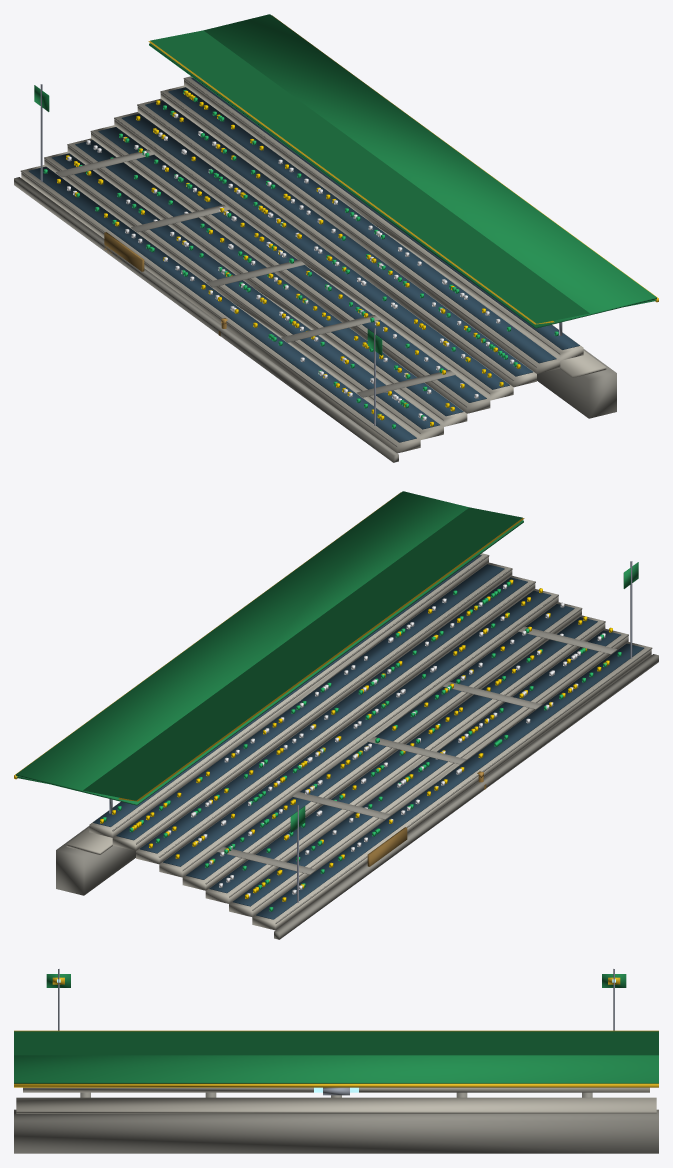
File: paulistano_senna_monument_terrace.glb
3 views of the same model, one above another, from view 1: azimuth 30°, elevation 25°; view 2: azimuth 150°, elevation 25°; view 3: azimuth 270°, elevation 25° (orthographic). The views are drawn at different scales.
Visible parts, largest first — view 1: Surface_green, Surface_seat, Surface_concrete, Surface_concrete_dark, Surface_crowd_yellow, Surface_crowd_green, Surface_crowd_white, Surface_yellow; view 2: Surface_green, Surface_seat, Surface_concrete, Surface_concrete_dark, Surface_crowd_yellow, Surface_crowd_green, Surface_crowd_white, Surface_yellow; view 3: Surface_green, Surface_concrete_dark, Surface_concrete, Surface_yellow, Surface_steel.
Boxes of the visible parts, x1,y1,x2,y2 form: Surface_green: (34, 14, 656, 355); Surface_seat: (28, 78, 579, 442); Surface_concrete: (21, 76, 606, 453); Surface_concrete_dark: (14, 78, 616, 462); Surface_crowd_yellow: (57, 90, 520, 426); Surface_crowd_green: (43, 89, 558, 428); Surface_crowd_white: (67, 113, 514, 421); Surface_yellow: (148, 15, 658, 324); Surface_green: (16, 491, 638, 832); Surface_seat: (93, 555, 644, 919); Surface_concrete: (66, 553, 651, 930); Surface_concrete_dark: (56, 555, 658, 939); Surface_crowd_yellow: (100, 579, 612, 901); Surface_crowd_green: (102, 581, 621, 911); Surface_crowd_white: (167, 584, 605, 897); Surface_yellow: (14, 492, 524, 801); Surface_green: (14, 974, 658, 1083); Surface_concrete_dark: (14, 1092, 658, 1153); Surface_concrete: (16, 1087, 656, 1113); Surface_yellow: (14, 977, 658, 1087); Surface_steel: (58, 969, 614, 1095).
Bounding box in the file's own units: 56.31 × 24 × 144.
